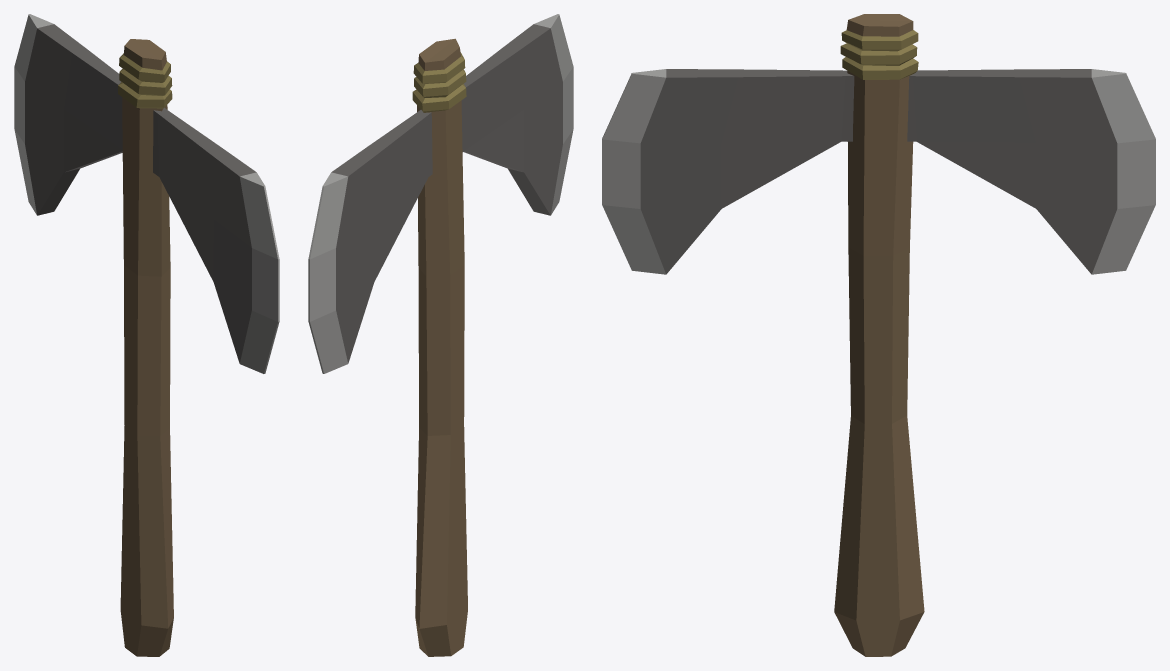
Rendered from AxeDouble.fbx.
3 renders of one model, left to right at view 1: azimuth 30°, elevation 25°; view 2: azimuth 150°, elevation 25°; view 3: azimuth 270°, elevation 25°, orthographic. The views are drawn at different scales.
Parts seen in each view (by area): view 1: Battle_Axe; view 2: Battle_Axe; view 3: Battle_Axe.
Boxes of the visible parts, <box> form: Battle_Axe: <box>14,14,279,656</box>; Battle_Axe: <box>308,14,573,656</box>; Battle_Axe: <box>602,14,1155,656</box>.
Bounding box in the file's own units: 17.82 × 278 × 221.
